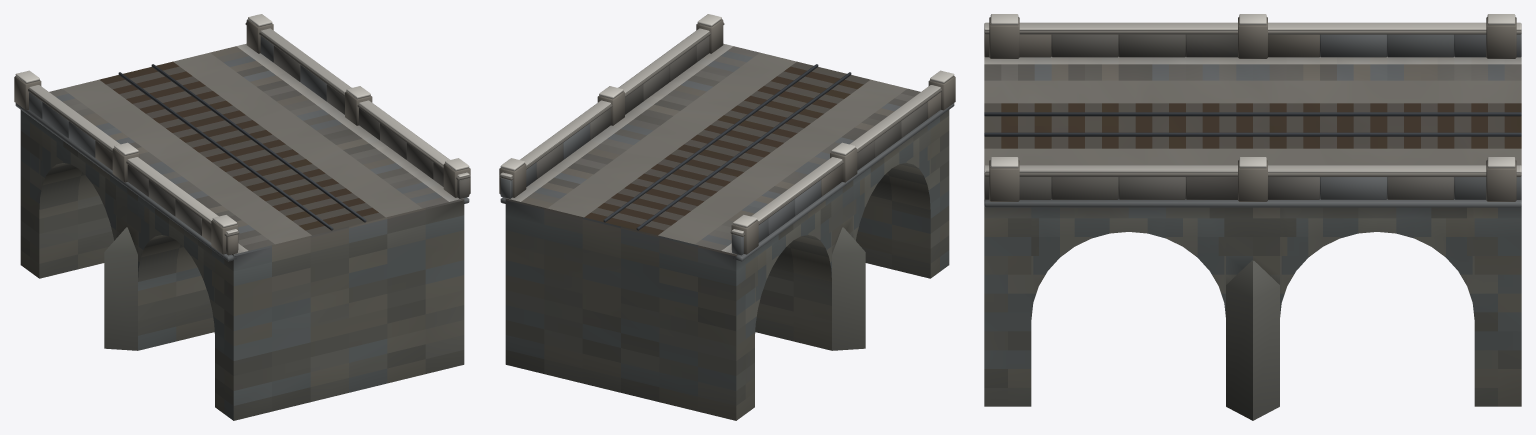
File: bridge_viaduct.glb
3 renders of one model, left to right at view 1: azimuth 30°, elevation 25°; view 2: azimuth 150°, elevation 25°; view 3: azimuth 270°, elevation 25°, orthographic. The views are drawn at different scales.
Visible parts, largest first — view 1: bridge_viaduct_mesh; view 2: bridge_viaduct_mesh; view 3: bridge_viaduct_mesh.
Boxes of the visible parts, bbox=[...] form: bridge_viaduct_mesh: bbox=[14, 14, 470, 420]; bridge_viaduct_mesh: bbox=[499, 14, 955, 420]; bridge_viaduct_mesh: bbox=[984, 14, 1521, 420].
Bounding box in the file's own units: 12 × 8.1 × 16.
